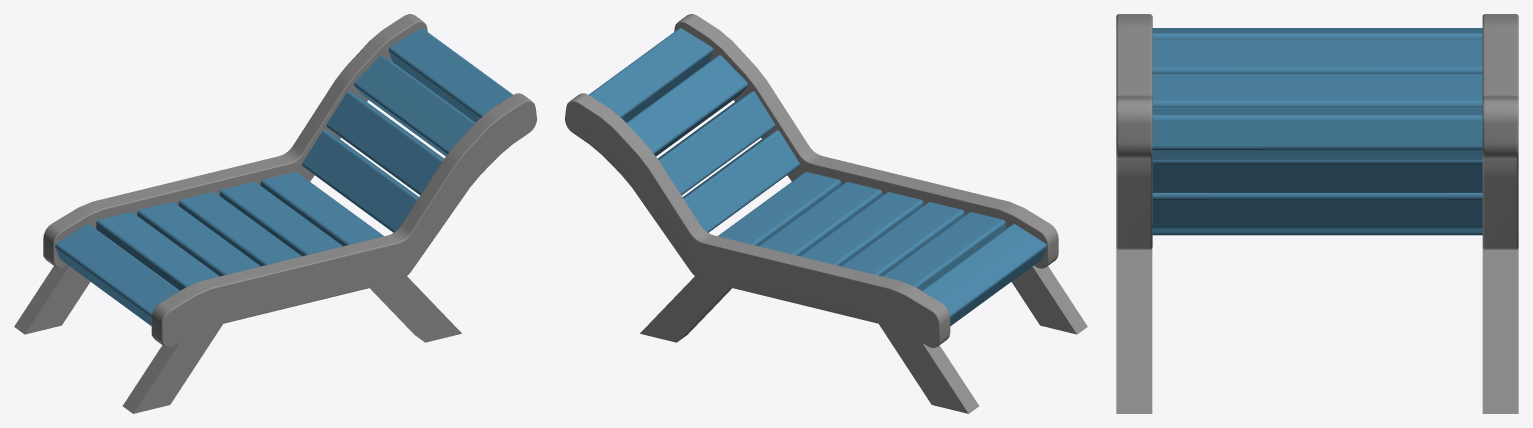
Rendered from chair.fbx.
3 renders of one model, left to right at view 1: azimuth 30°, elevation 25°; view 2: azimuth 150°, elevation 25°; view 3: azimuth 270°, elevation 25°, orthographic. The views are drawn at different scales.
Visible parts, largest first — view 1: pCube31, pCube19, pCube22, pCube21, pCube20, pCube23, pCube18, pCube15, pCube17, pCube14, pCube16; view 2: pCube31, pCube19, pCube22, pCube21, pCube20, pCube23, pCube18, pCube15, pCube17, pCube14, pCube16; view 3: pCube31, pCube23, pCube20, pCube17, pCube18, pCube21, pCube19, pCube22, pCube14, pCube16.
Part boxes in pixels (left/top/right/bottom): pCube31: left=14, top=14, right=536, bottom=413; pCube19: left=55, top=224, right=179, bottom=325; pCube22: left=354, top=55, right=475, bottom=156; pCube21: left=326, top=91, right=444, bottom=195; pCube20: left=302, top=130, right=419, bottom=232; pCube23: left=388, top=28, right=512, bottom=122; pCube18: left=96, top=212, right=219, bottom=290; pCube15: left=219, top=182, right=342, bottom=256; pCube17: left=137, top=202, right=260, bottom=276; pCube14: left=260, top=172, right=383, bottom=246; pCube16: left=178, top=192, right=301, bottom=266; pCube31: left=565, top=14, right=1087, bottom=413; pCube19: left=922, top=224, right=1046, bottom=325; pCube22: left=626, top=55, right=747, bottom=156; pCube21: left=657, top=91, right=775, bottom=195; pCube20: left=682, top=130, right=799, bottom=232; pCube23: left=589, top=28, right=713, bottom=122; pCube18: left=882, top=212, right=1005, bottom=290; pCube15: left=759, top=182, right=882, bottom=256; pCube17: left=841, top=202, right=964, bottom=276; pCube14: left=718, top=172, right=841, bottom=246; pCube16: left=800, top=192, right=923, bottom=266; pCube31: left=1116, top=14, right=1518, bottom=413; pCube23: left=1152, top=108, right=1482, bottom=150; pCube20: left=1152, top=193, right=1482, bottom=228; pCube17: left=1152, top=74, right=1482, bottom=107; pCube18: left=1152, top=40, right=1482, bottom=73; pCube21: left=1152, top=160, right=1482, bottom=192; pCube19: left=1152, top=28, right=1482, bottom=39; pCube22: left=1152, top=150, right=1482, bottom=159; pCube14: left=1152, top=228, right=1482, bottom=235; pCube16: left=1152, top=107, right=1482, bottom=108.
Bounding box in the file's own units: 10.9 × 5.59 × 5.56.
